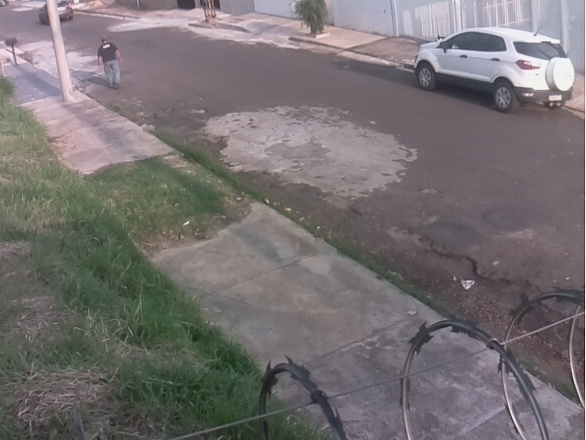person: (97, 35, 124, 91)
